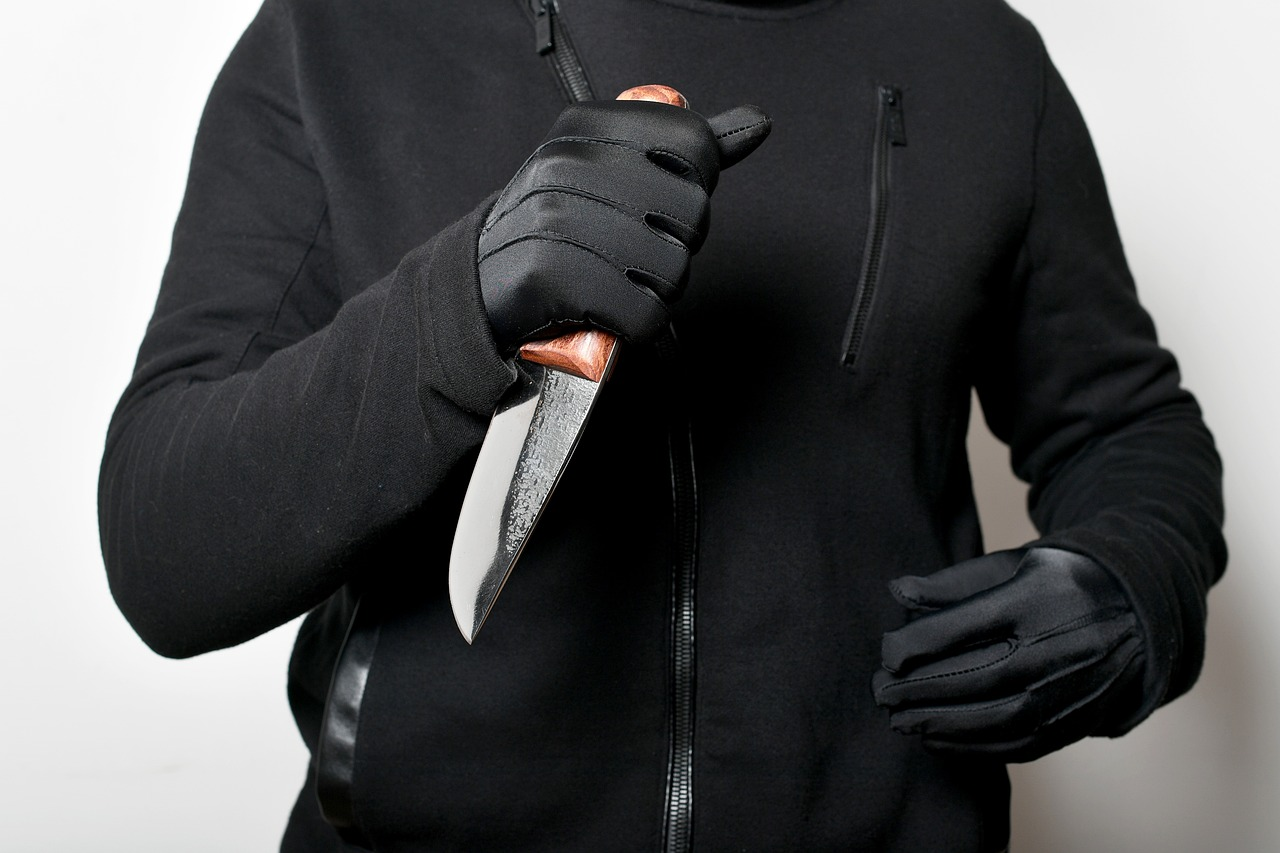knife: (426, 76, 700, 674)
